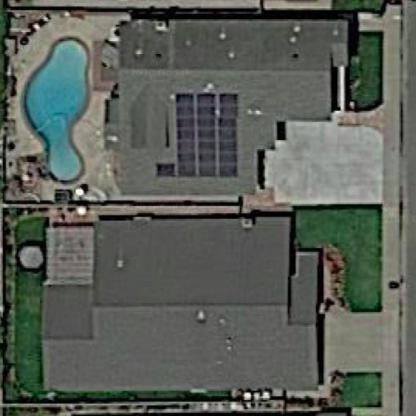solar_panel: (172, 89, 246, 181)
swimming_pool: (13, 20, 101, 186)
